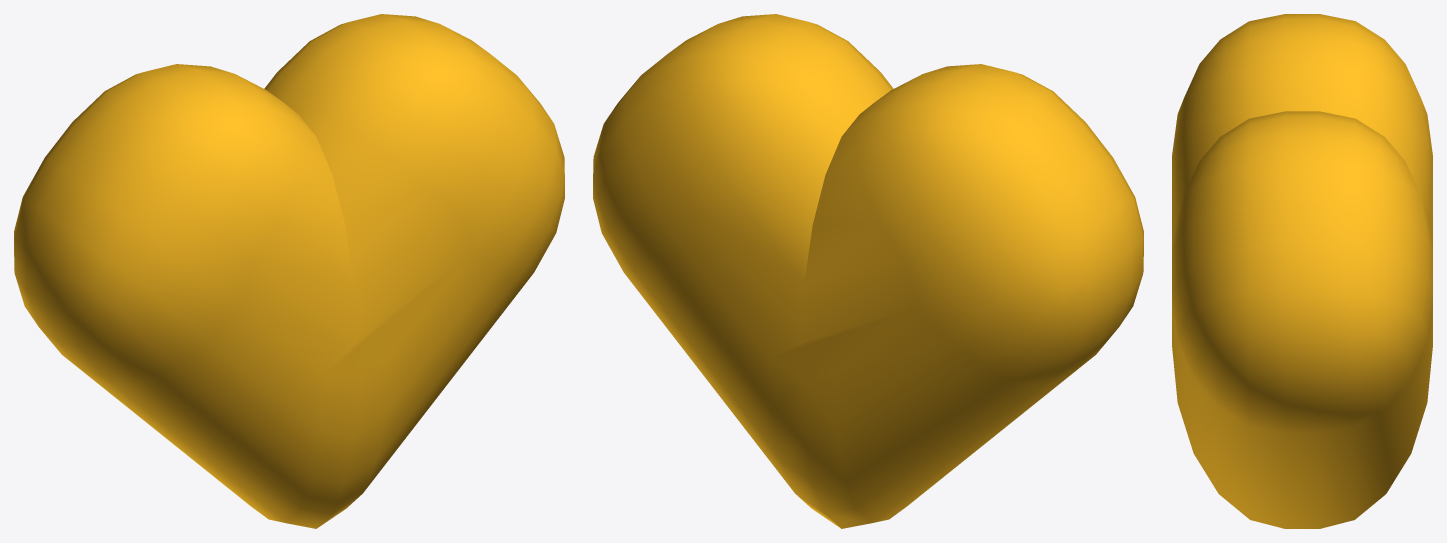
File: heart_teamYellow.glb
3 renders of one model, left to right at view 1: azimuth 30°, elevation 25°; view 2: azimuth 150°, elevation 25°; view 3: azimuth 270°, elevation 25°, orthographic. The views are drawn at different scales.
Parts seen in each view (by area): view 1: heart_teamYellow; view 2: heart_teamYellow; view 3: heart_teamYellow.
Part boxes in pixels (bbox=[...]): heart_teamYellow: bbox=[14, 14, 564, 528]; heart_teamYellow: bbox=[593, 14, 1143, 528]; heart_teamYellow: bbox=[1172, 14, 1432, 528].
Bounding box in the file's own units: 0.324 × 0.2817 × 0.148.
